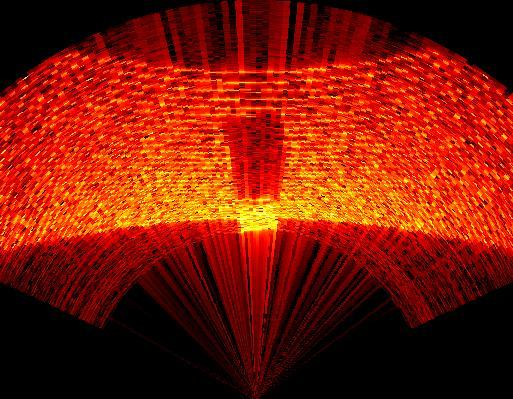box_crate: (221, 99, 294, 233)
